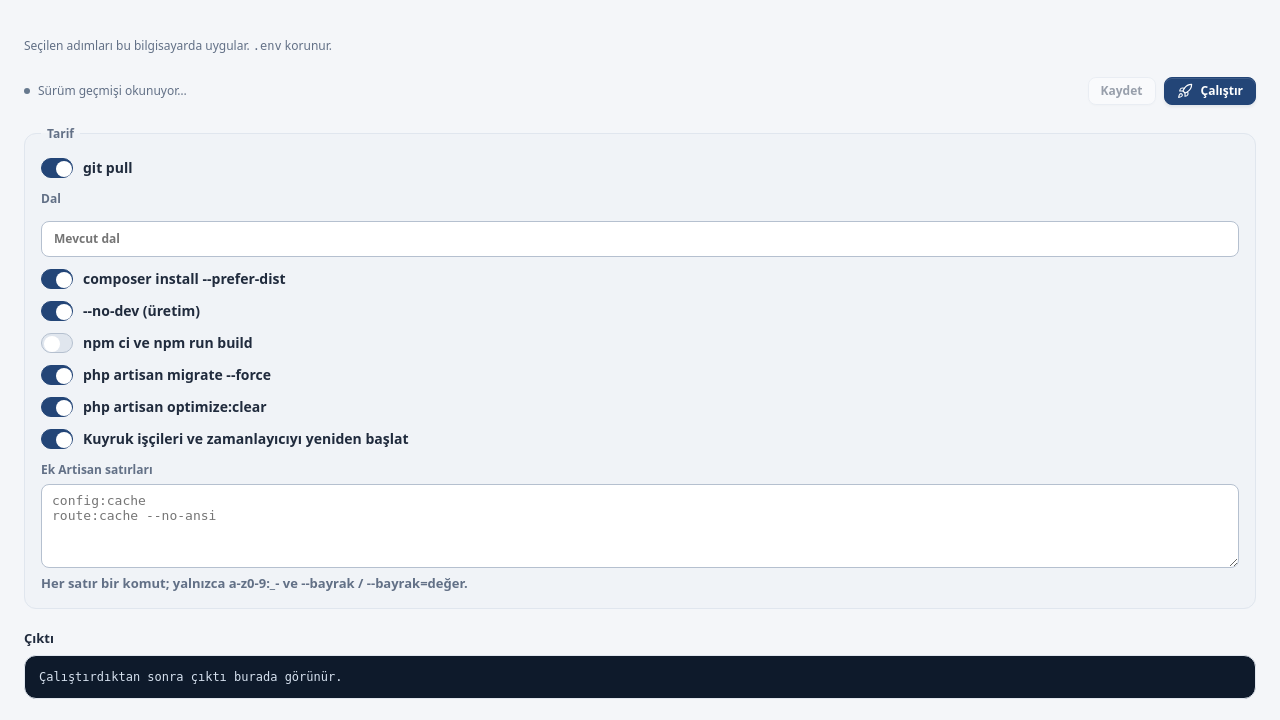
Scenario: release output identity › keeps the completed deployment output when an older initial history read arrives late
expect the text "Sürüm geçmişi okunuyor…" is shown: met, box [24,82,187,99]
What coordinates should you click on to do the following:
click the button "Çalıştır"
I would click on:
 (1210, 91)
Its box is [1164,77,1256,105].
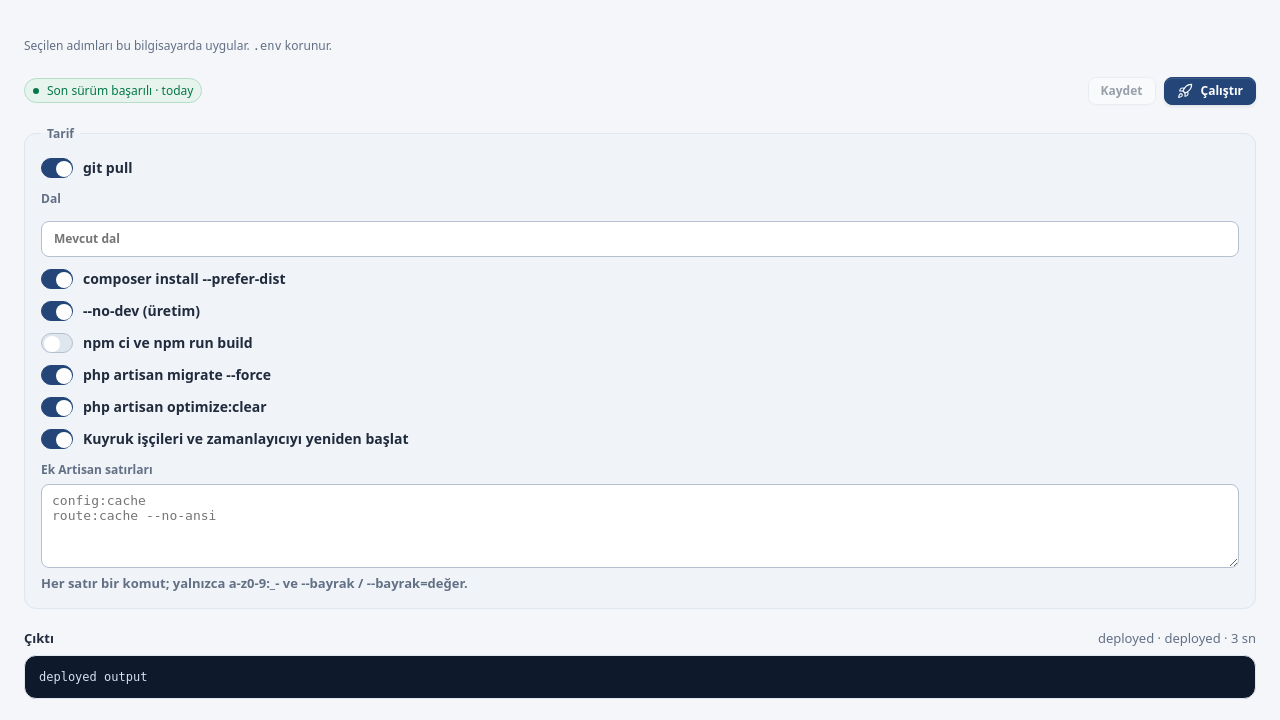
expect the text "deployed output" is shown: met, box [24,655,1256,699]
expect the text "Son sürüm başarılı · today" is shown: met, box [24,78,202,103]
